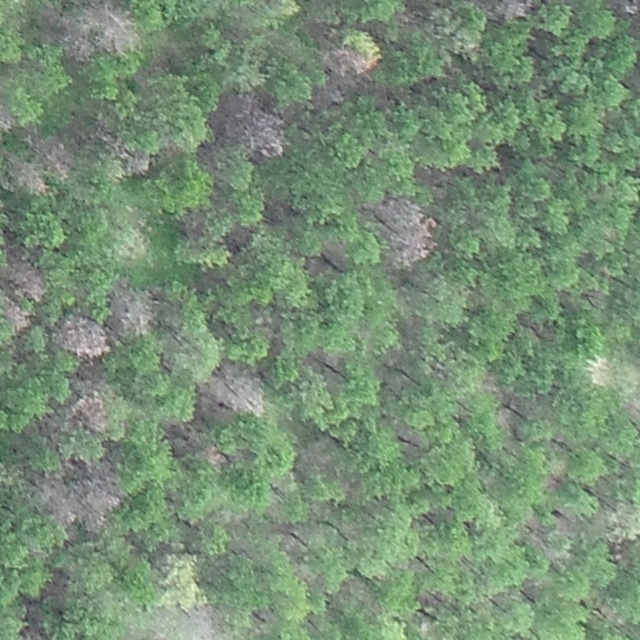unhealthy: (217, 90, 287, 161), (373, 194, 438, 269), (71, 461, 125, 533), (200, 362, 267, 418), (87, 1, 136, 55), (46, 8, 90, 67), (108, 285, 155, 338), (53, 314, 106, 360), (32, 472, 71, 531), (520, 512, 563, 563), (319, 44, 379, 79), (6, 254, 49, 298), (32, 134, 74, 178), (111, 135, 157, 174), (10, 157, 48, 197), (68, 393, 108, 431), (184, 604, 224, 640), (479, 0, 536, 22), (297, 442, 334, 474), (2, 299, 34, 332), (624, 391, 639, 433), (605, 0, 638, 18), (203, 445, 227, 469), (0, 102, 15, 137)
